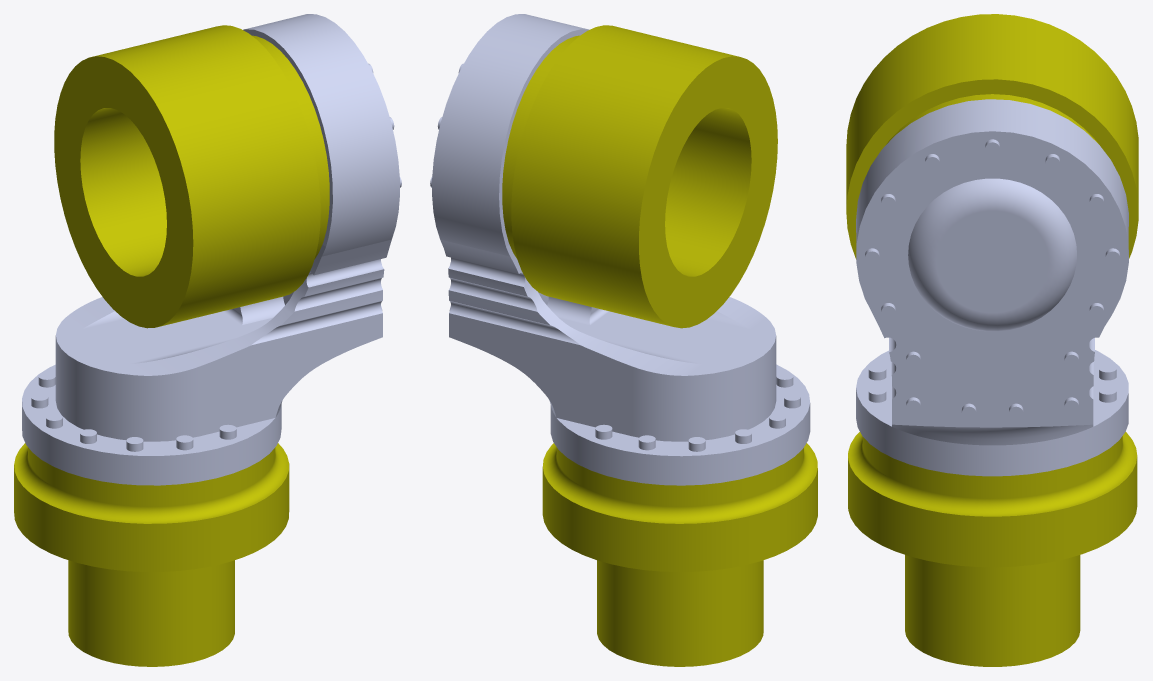
The picture shows the model from 3 angles, left to right: view 1: azimuth 30°, elevation 25°; view 2: azimuth 150°, elevation 25°; view 3: azimuth 270°, elevation 25°; orthographic projection. The views are drawn at different scales.
Visible parts, largest first — view 1: Actor0; view 2: Actor0; view 3: Actor0.
Boxes of the visible parts, <box> form: Actor0: <box>14,14,401,666</box>; Actor0: <box>430,14,817,666</box>; Actor0: <box>846,14,1138,666</box>.
Size of the model in its own units: 0.118 by 0.2042 by 0.0899.
